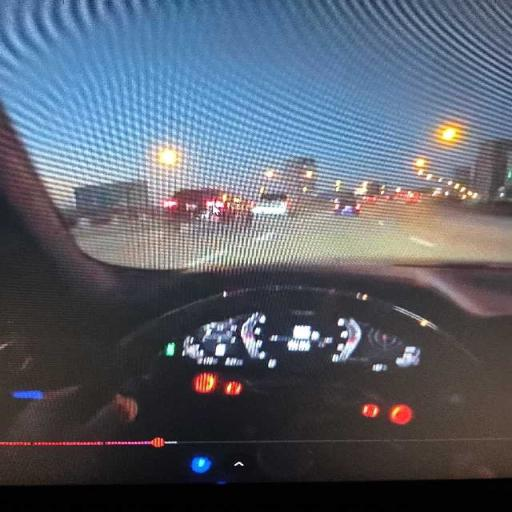car: (0, 0, 511, 510), (0, 148, 511, 483), (251, 194, 290, 219), (333, 194, 361, 216), (404, 191, 420, 204)
lane: (75, 204, 511, 270)
truck: (75, 181, 147, 222)
